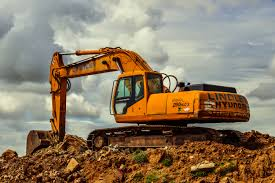excavator: (25, 50, 254, 164)
